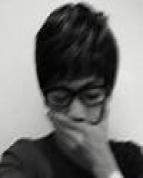face: (45, 56, 108, 135)
